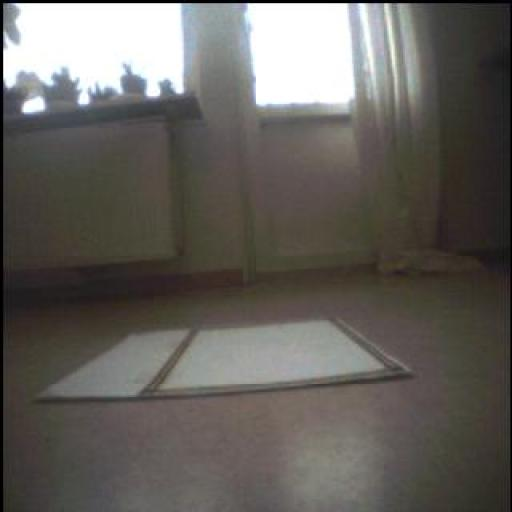Pad: (39, 313, 399, 398)
